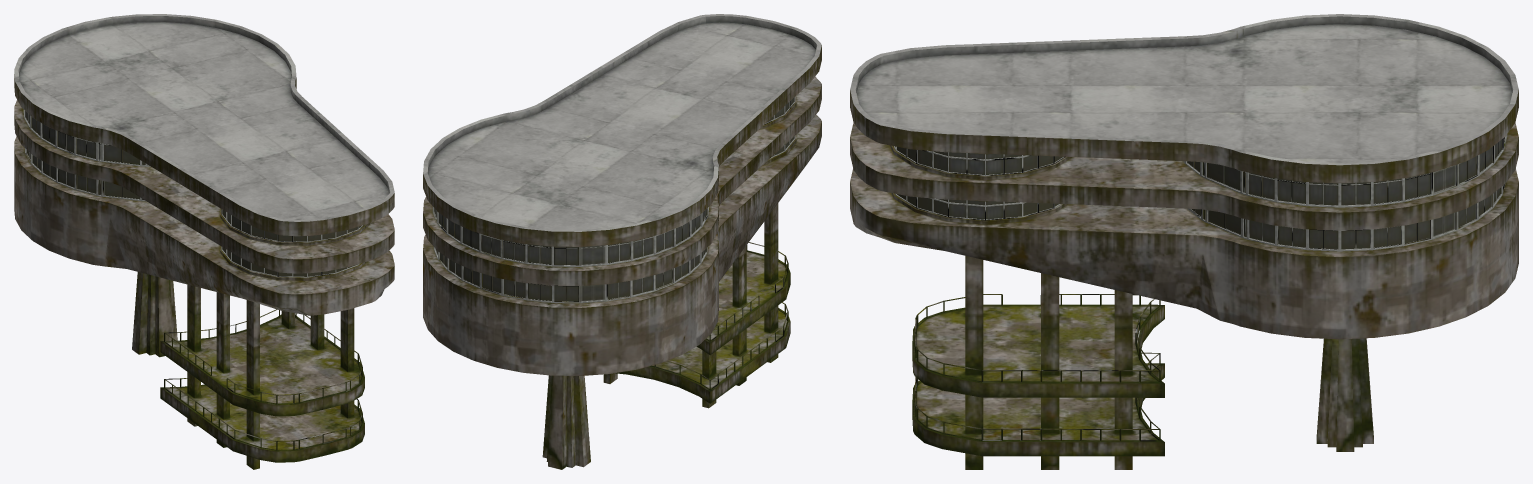
File: BrutalistBuilding.fbx
3 views of the same model, side by side, from view 1: azimuth 30°, elevation 25°; view 2: azimuth 150°, elevation 25°; view 3: azimuth 270°, elevation 25° (orthographic). The views are drawn at different scales.
Visible parts, largest first — view 1: BrutalistBuilding_Baked; view 2: BrutalistBuilding_Baked; view 3: BrutalistBuilding_Baked.
Boxes of the visible parts, x1=… form: BrutalistBuilding_Baked: x1=14, y1=14, x2=394, y2=469; BrutalistBuilding_Baked: x1=423, y1=14, x2=821, y2=469; BrutalistBuilding_Baked: x1=850, y1=14, x2=1518, y2=469.
Bounding box in the file's own units: 52.08 × 97.28 × 56.01.
Materials: 1 (1 with a texture image).
